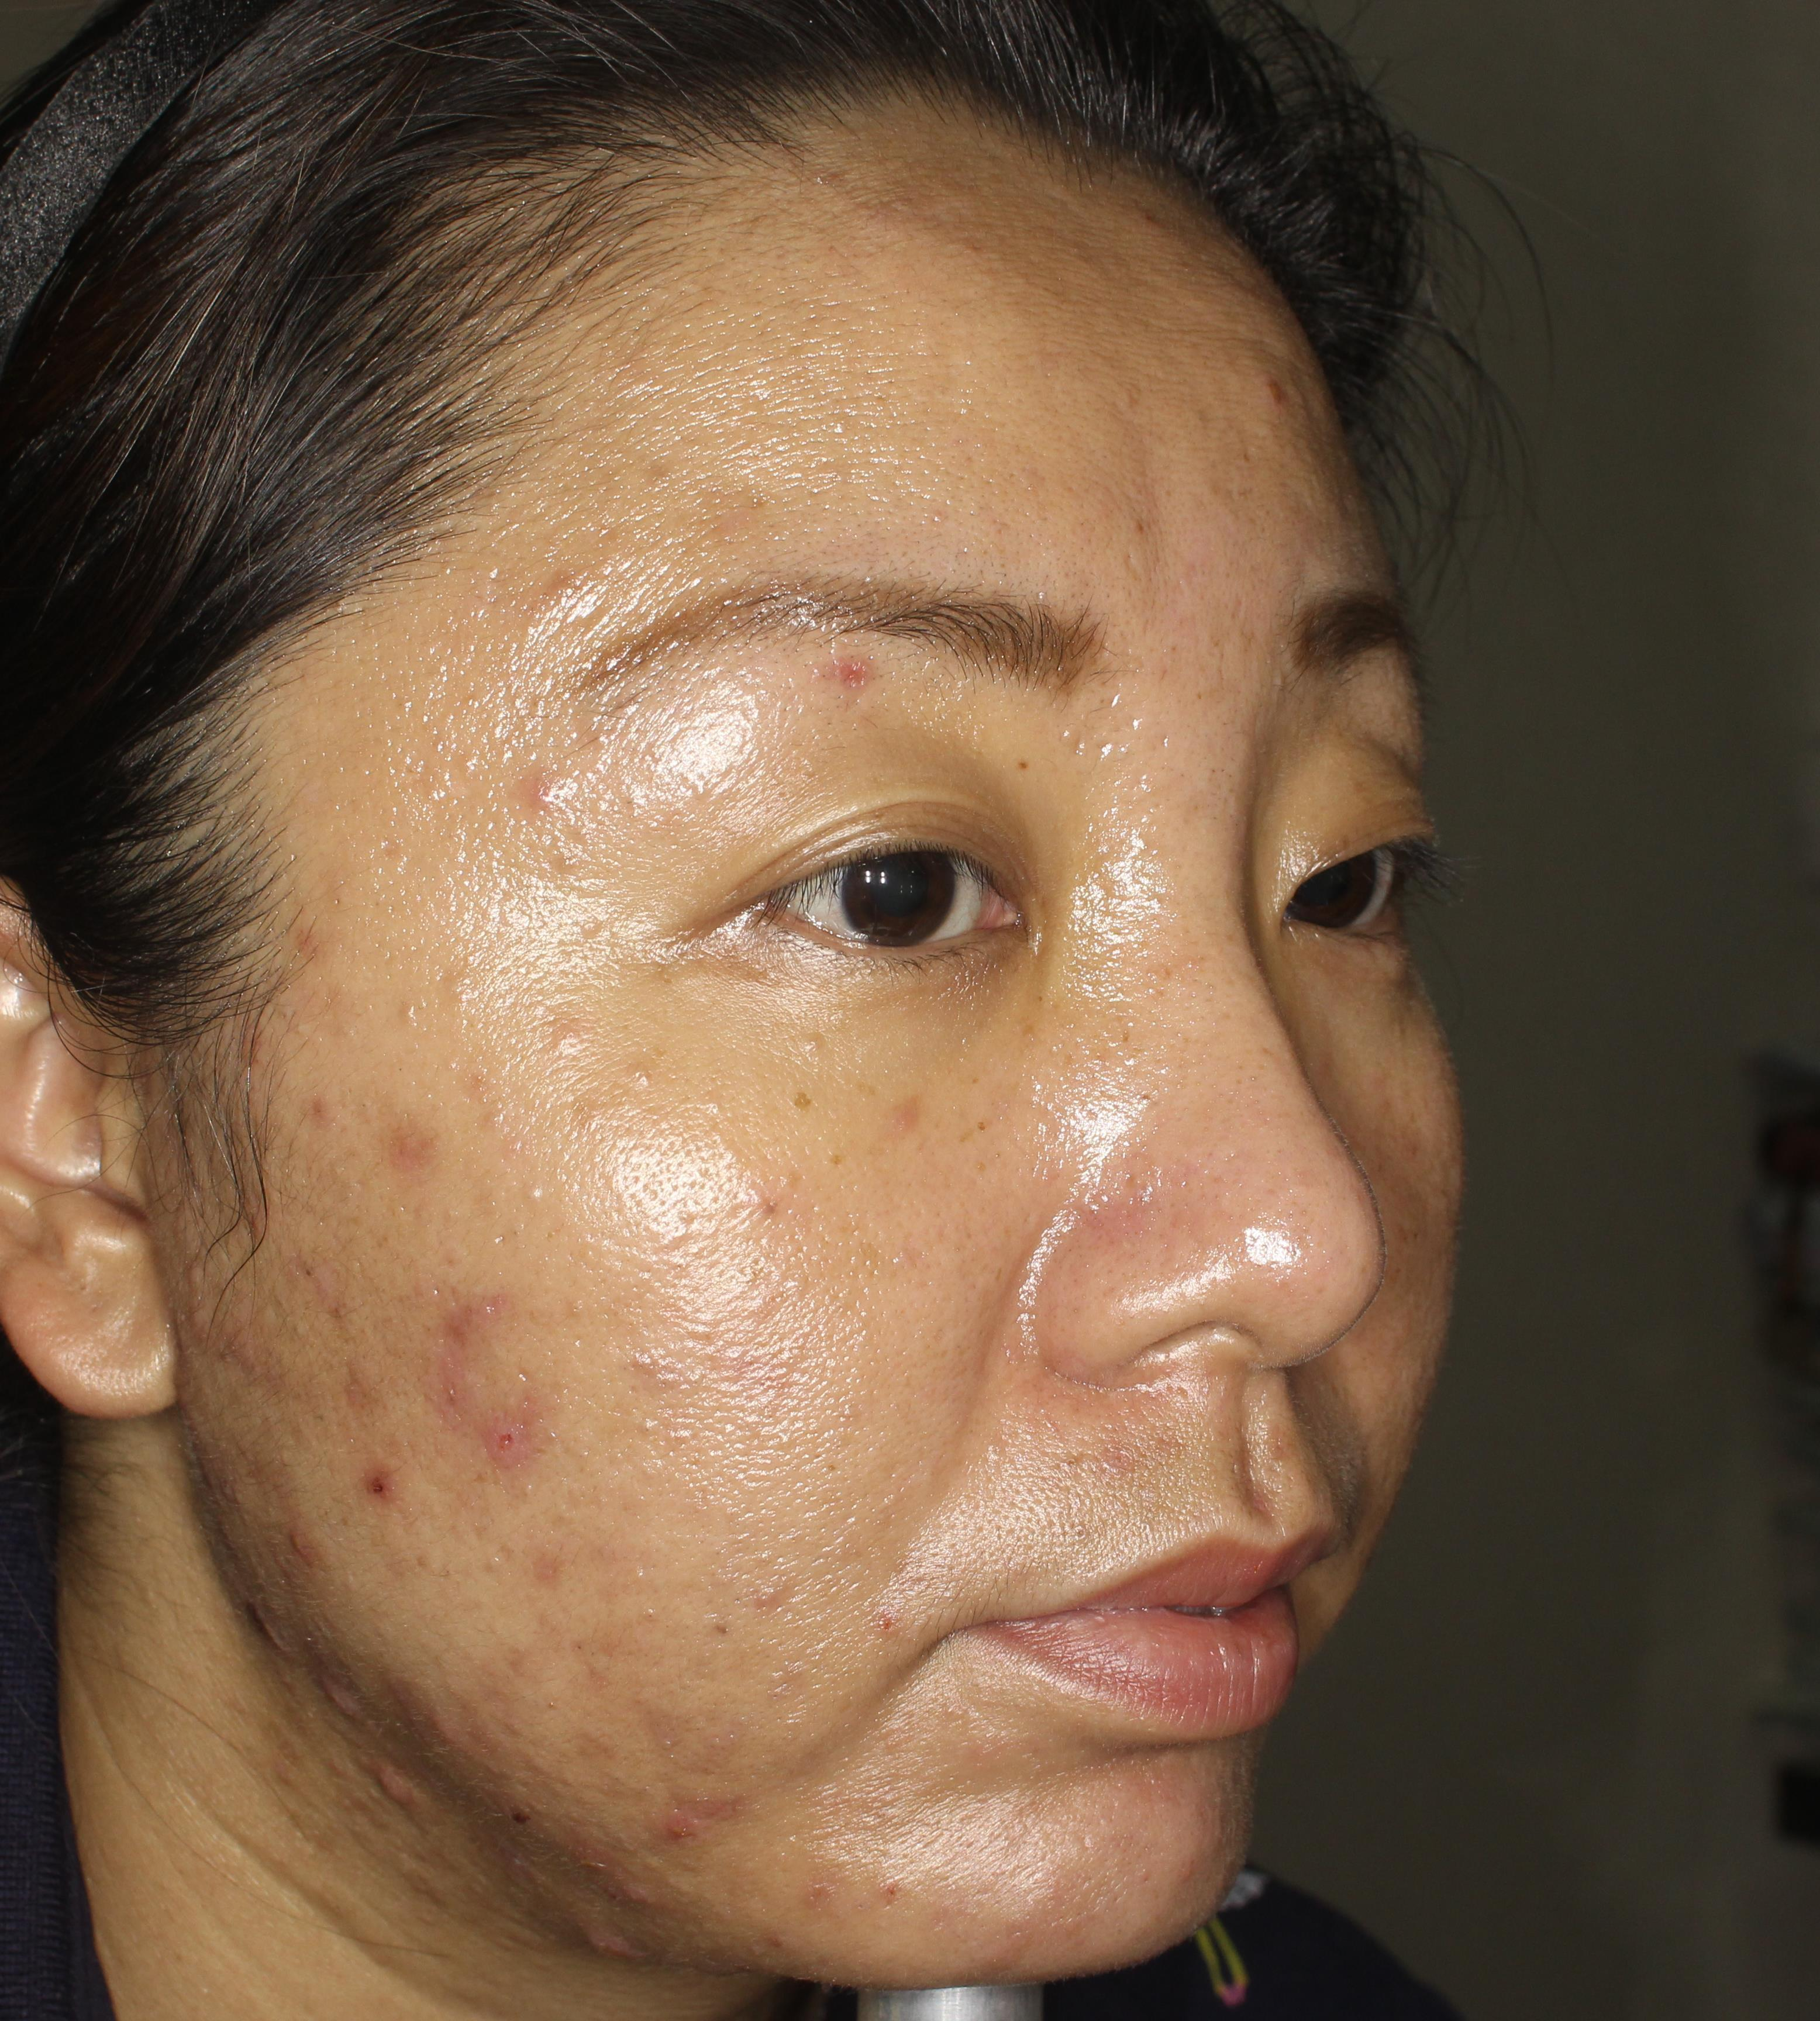fore: (306, 1442, 418, 1517), (401, 1266, 485, 1361), (300, 1334, 381, 1424), (369, 1087, 444, 1173), (516, 746, 589, 827), (485, 1392, 557, 1473), (283, 917, 378, 976), (646, 1786, 727, 1854), (248, 1505, 323, 1563), (511, 1549, 571, 1598), (404, 1375, 462, 1415)
